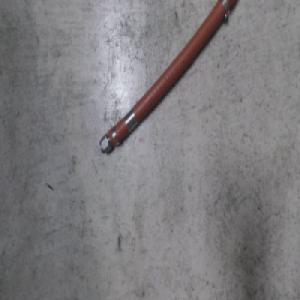Hose: (97, 0, 240, 159)
